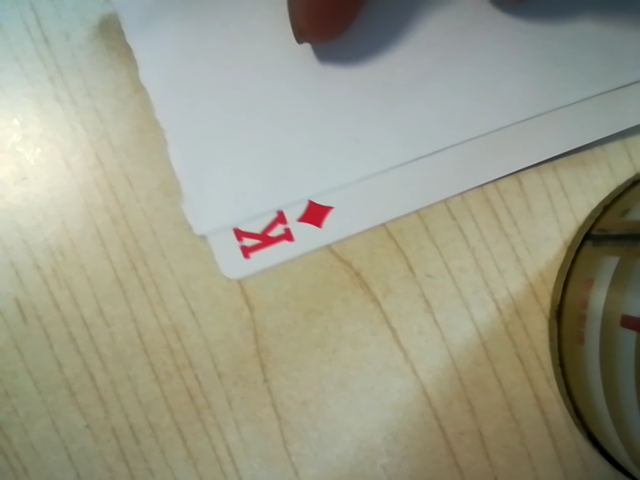fk k: (223, 197, 335, 265)
